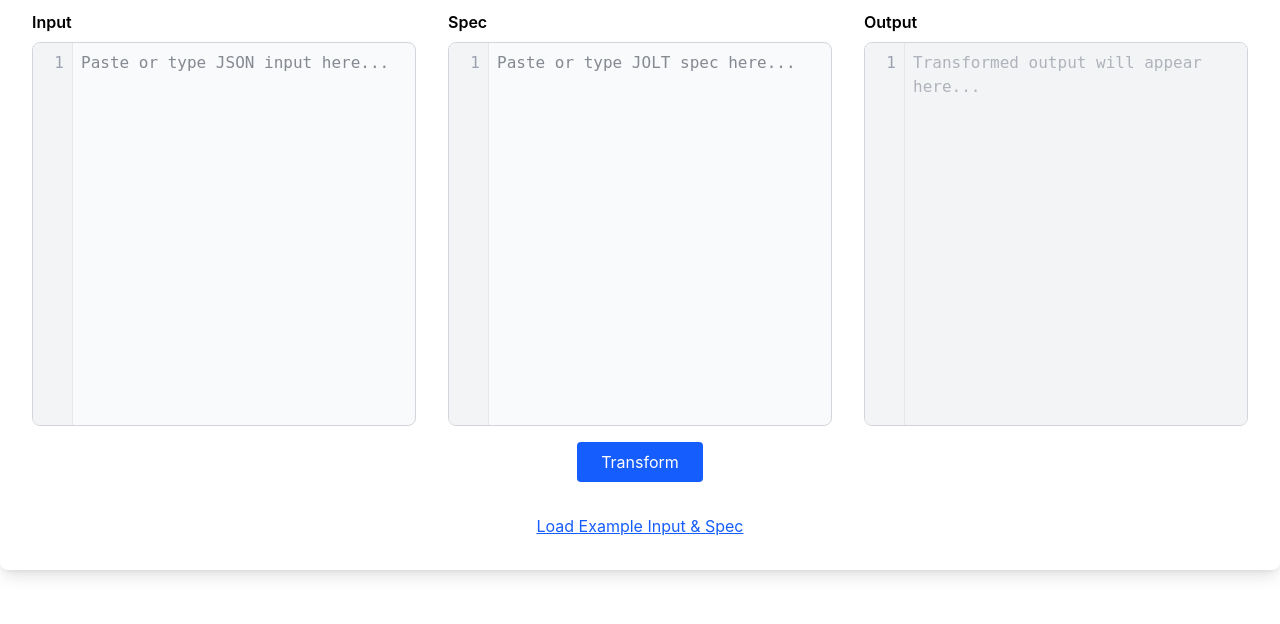
Test: TransformPage › shows an error on network failure
Click the button "Transform" at (640,462), box left=577, top=442, right=703, bottom=482
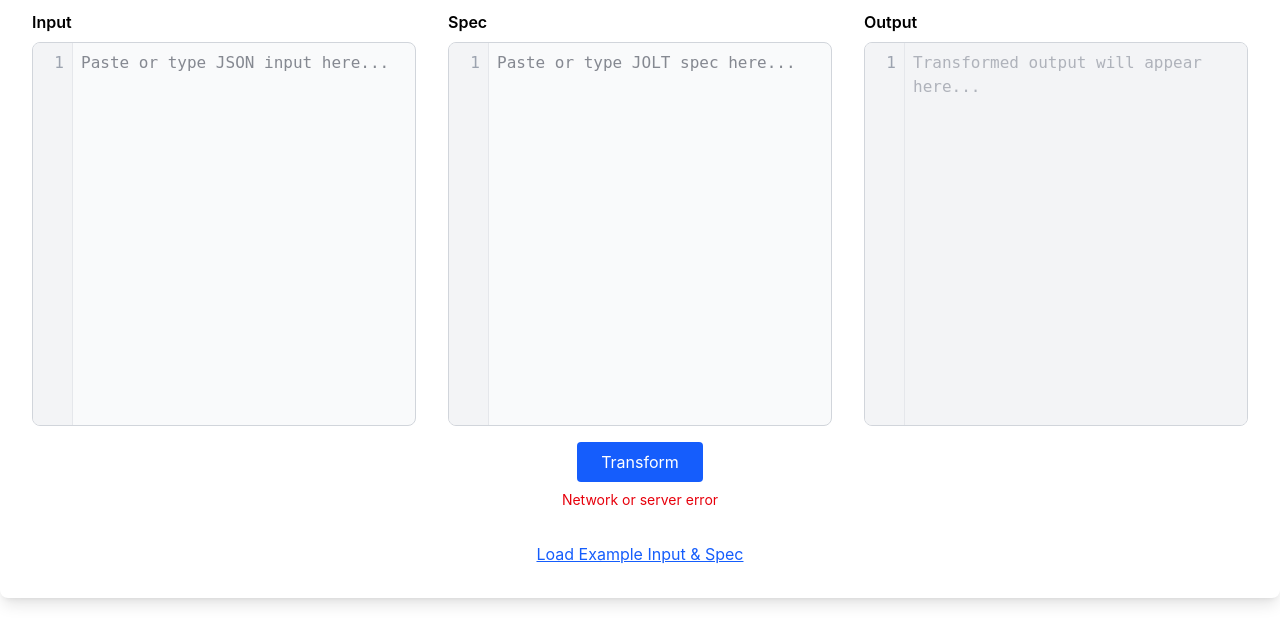
Expected: the text "Network or server error" is shown, left=562, top=490, right=718, bottom=510
